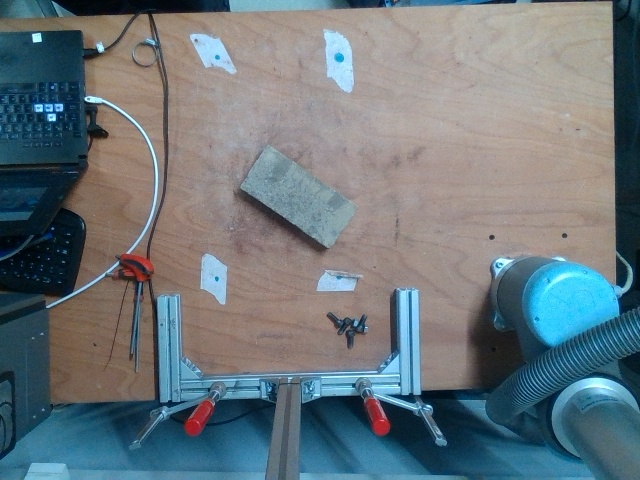brick: (241, 146, 356, 246)
